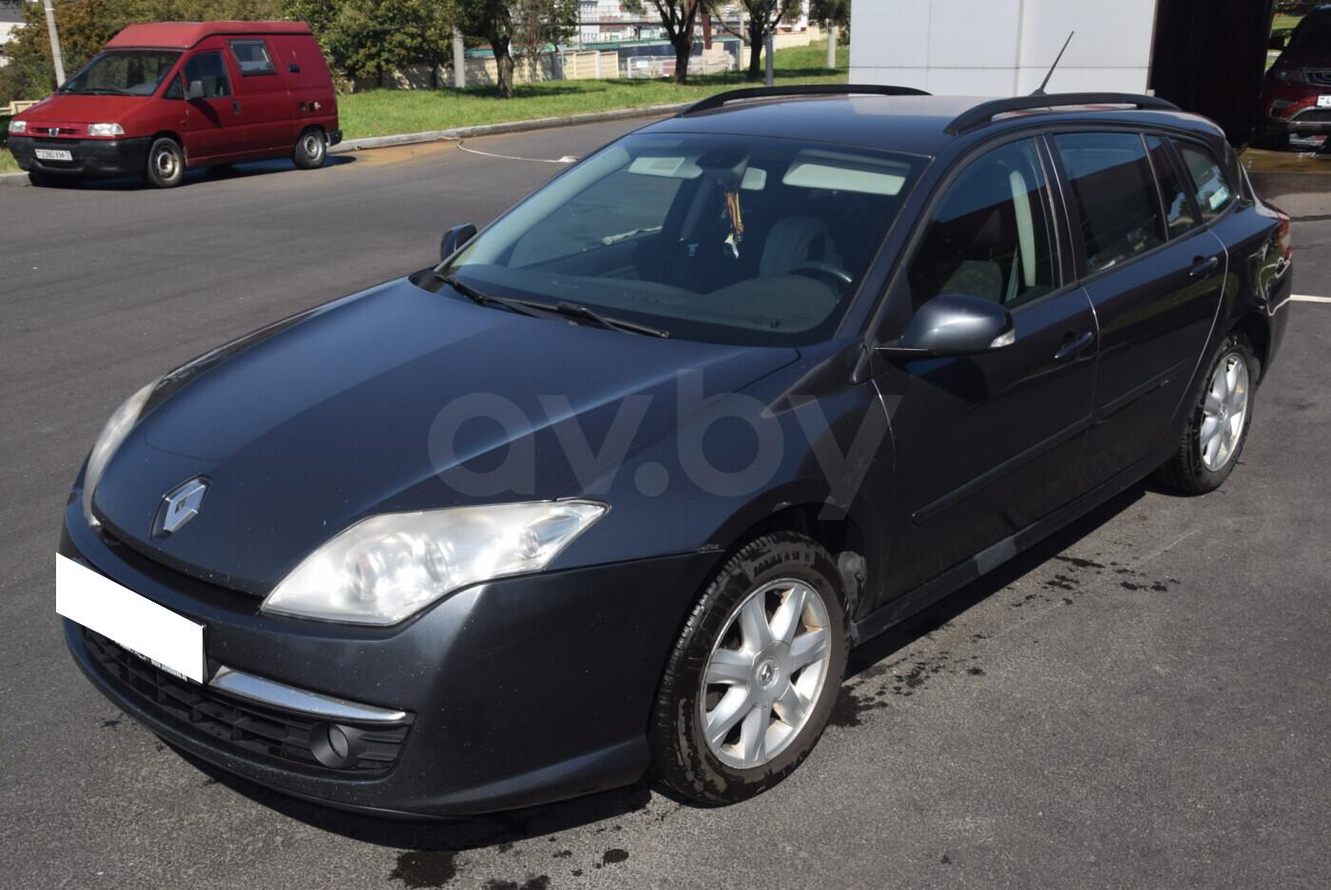Laguna_2007-2011: (59, 96, 1292, 814)
